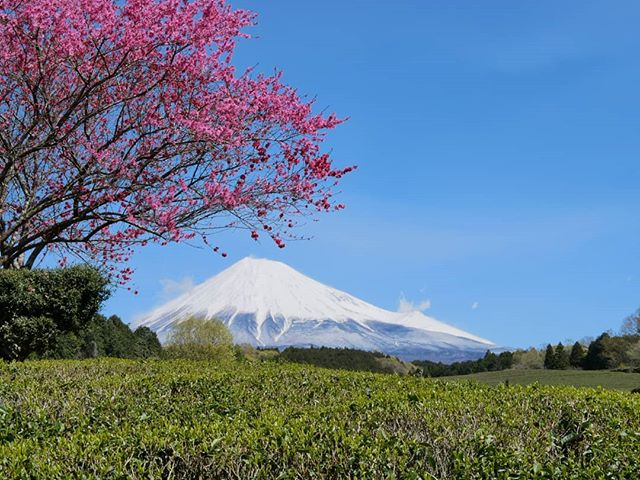mountain: (125, 232, 432, 315)
sky: (327, 1, 640, 276)
tree: (1, 1, 337, 264)
vegetation: (10, 360, 640, 480)
